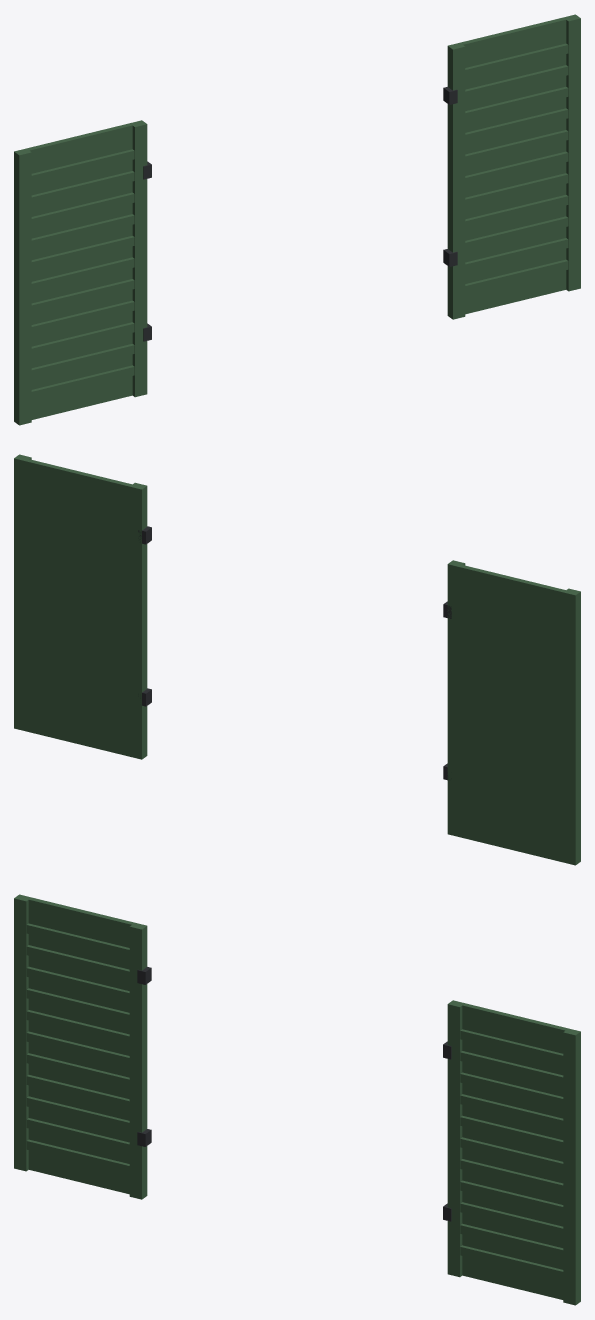
File: SM_Bld_Shutters_Green_01.glb
3 views of the same model, one above another, from view 1: azimuth 30°, elevation 25°; view 2: azimuth 150°, elevation 25°; view 3: azimuth 330°, elevation 25° (orthographic).
Parts seen in each view (by area): view 1: SM_Bld_Shutters_Green_01; view 2: SM_Bld_Shutters_Green_01; view 3: SM_Bld_Shutters_Green_01.
Boxes of the visible parts, left/top/right/bottom form: SM_Bld_Shutters_Green_01: left=14, top=14, right=580, bottom=425; SM_Bld_Shutters_Green_01: left=14, top=454, right=580, bottom=865; SM_Bld_Shutters_Green_01: left=14, top=894, right=580, bottom=1305.
Size of the model in its own units: 2.72 by 1.25 by 0.05.
1 material, 1 textured.
